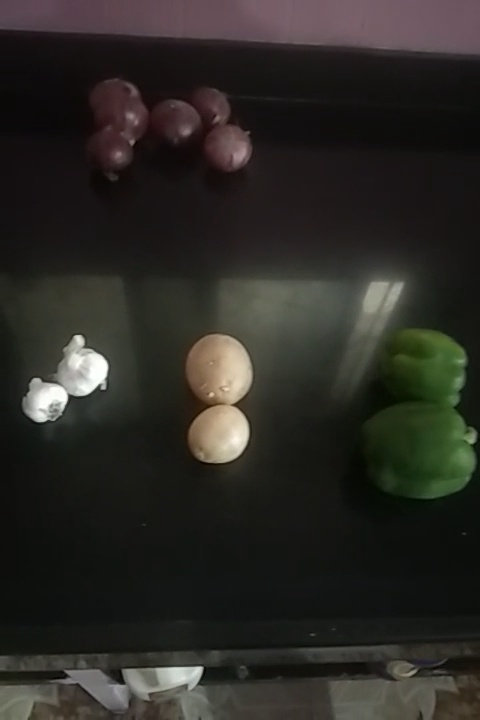capsicum: (365, 403, 474, 503), (385, 335, 466, 409)
garlic: (53, 340, 111, 393), (19, 377, 66, 425)
onion: (94, 72, 150, 142), (87, 130, 131, 187), (202, 127, 255, 173), (153, 101, 204, 145), (193, 85, 233, 130)
potato: (188, 332, 249, 406), (184, 403, 249, 470)
